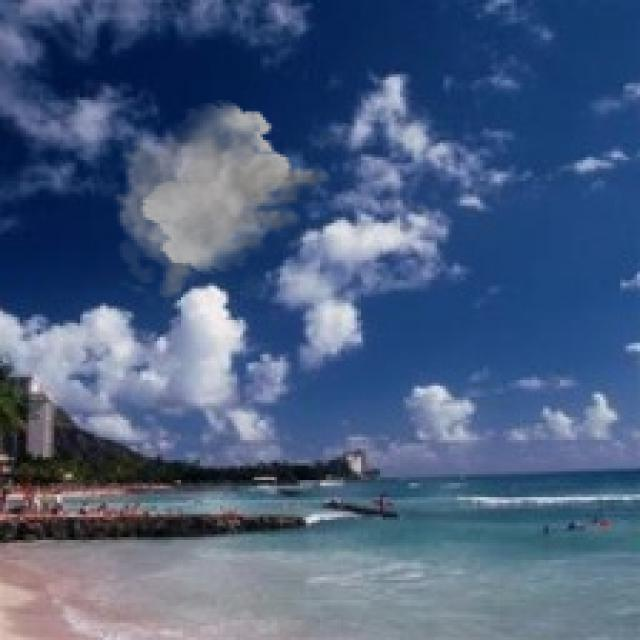smoke: (112, 100, 334, 300)
